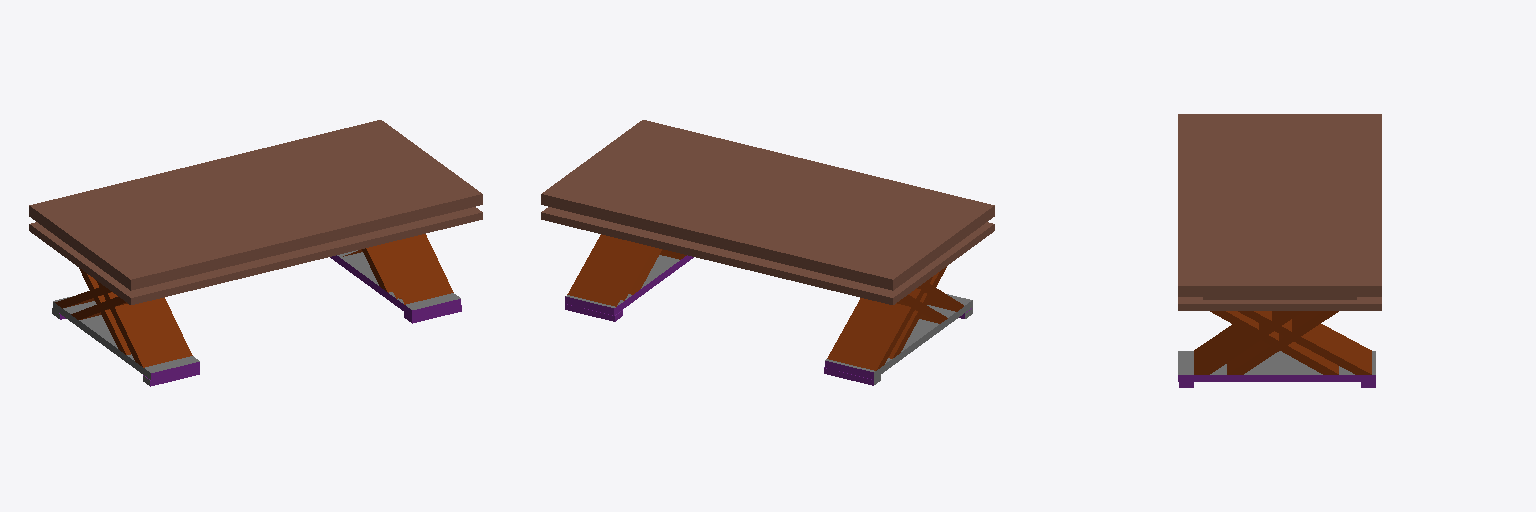
Rendered from Table.obj.
3 renders of one model, left to right at view 1: azimuth 30°, elevation 25°; view 2: azimuth 150°, elevation 25°; view 3: azimuth 270°, elevation 25°, orthographic.
Visible parts, largest first — view 1: Table.obj; view 2: Table.obj; view 3: Table.obj.
Part boxes in pixels (left/top/right/bottom): Table.obj: left=29, top=120, right=482, bottom=386; Table.obj: left=541, top=120, right=994, bottom=385; Table.obj: left=1178, top=114, right=1381, bottom=387.
Bounding box in the file's own units: 734 × 225 × 367.